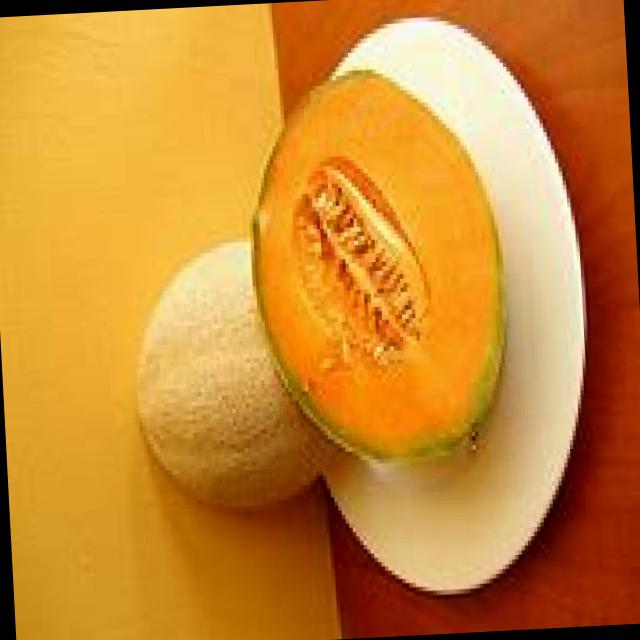cantaloupe: (243, 65, 518, 472), (124, 230, 321, 517)
